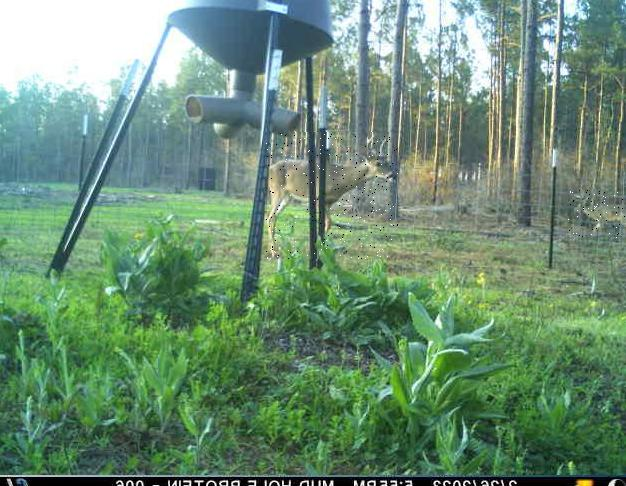Deer: (265, 132, 397, 259), (568, 190, 626, 238)
